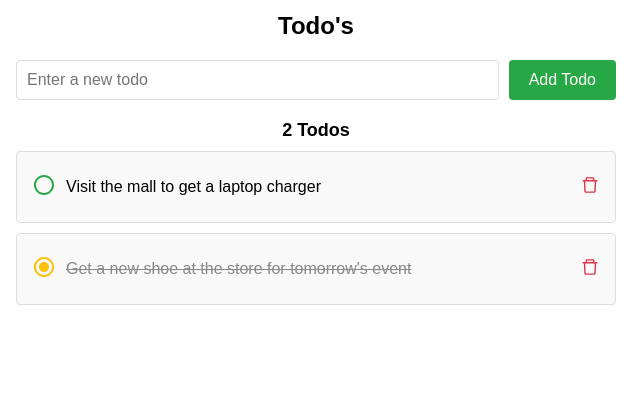
Test: App › typing into input and displaying one todo
The width and height of the screenshot is (633, 404).
In the field with placeholder "Enter a new todo": (257, 80) [16,60,499,100], type "Send a mail to Dad"
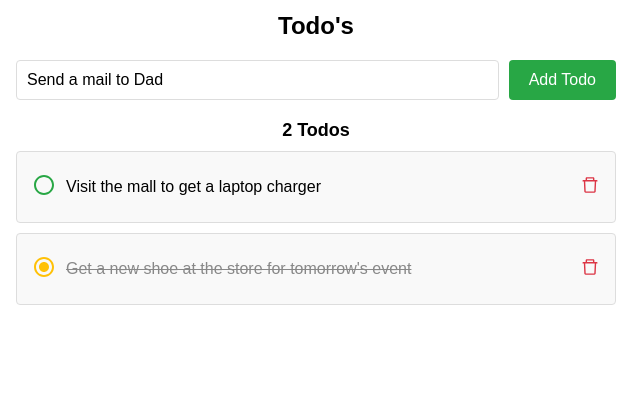
Click the button "Add Todo": (562, 80) [509,60,616,100]
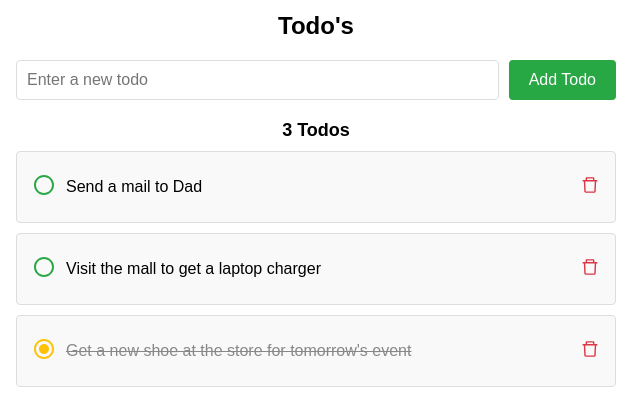
Now the text "Send a mail to Dad" is shown, box [66,178,202,195]
